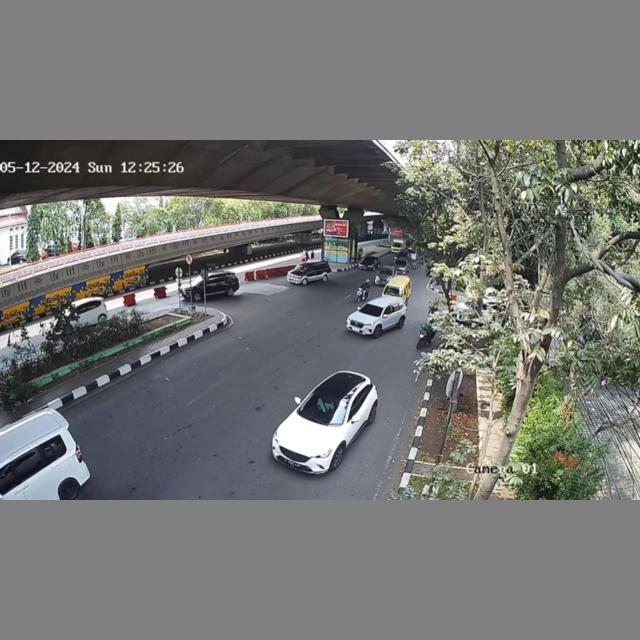windshield: (302, 390, 351, 427), (360, 301, 386, 321)
